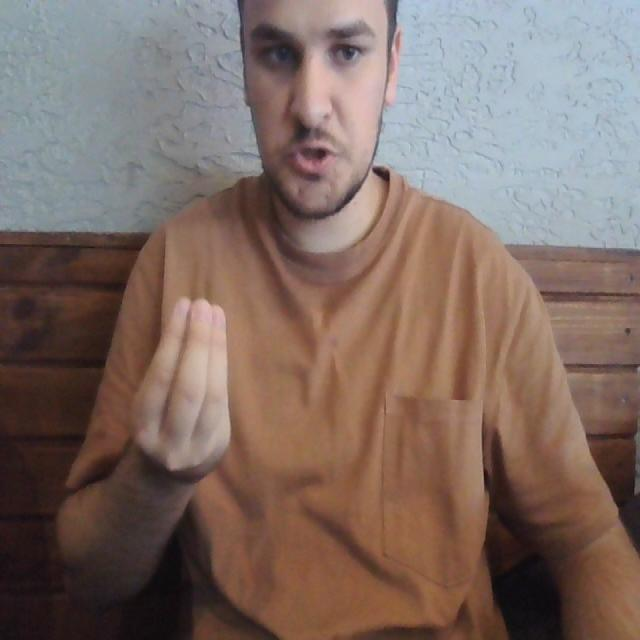iyi: (125, 292, 244, 486)
